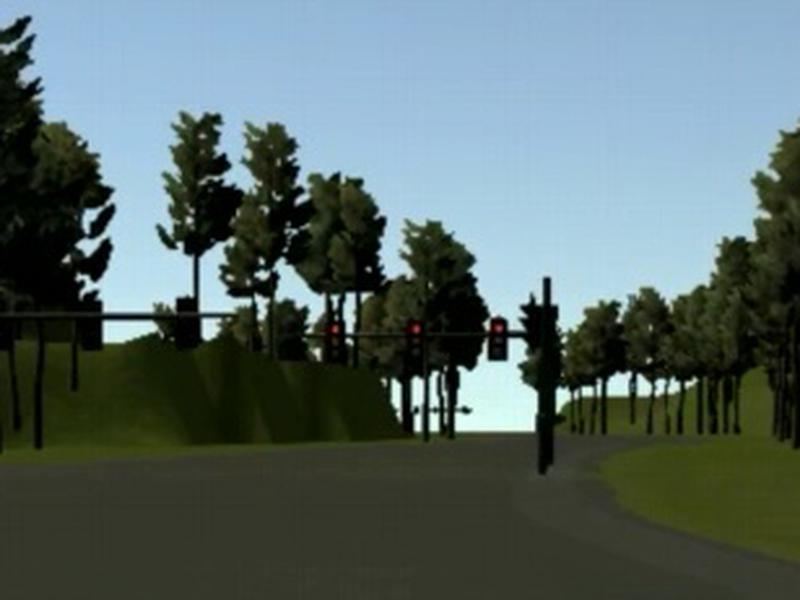Red: (327, 321, 345, 363), (489, 318, 506, 360), (408, 322, 424, 362)
